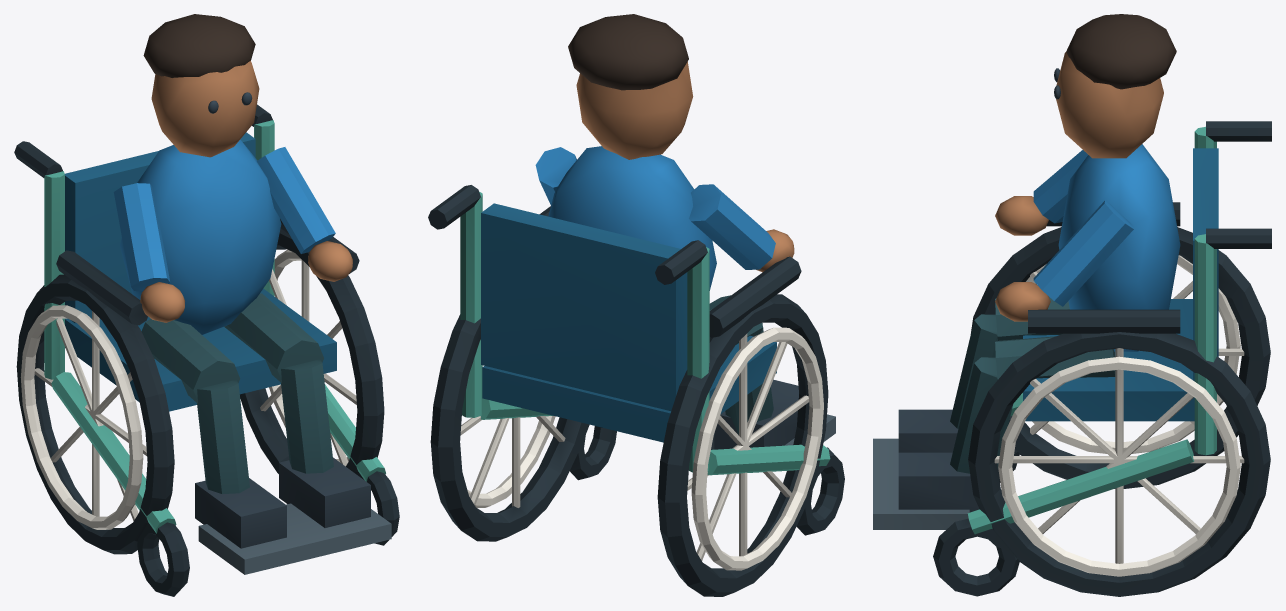
File: wheelchair-user.glb
3 renders of one model, left to right at view 1: azimuth 30°, elevation 25°; view 2: azimuth 150°, elevation 25°; view 3: azimuth 270°, elevation 25°, orthographic. The views are drawn at different scales.
Parts seen in each view (by area): view 1: wheel tyre, seated jacket, seated thigh, seat, push rim, head, shoe, chair frame, footplate, hair; view 2: seat, wheel tyre, seated jacket, push rim, chair frame, head, hair, shoe, seated thigh; view 3: wheel tyre, seated jacket, push rim, head, seat, chair frame, seated thigh, shoe, hair, footplate.
Boxes of the visible parts, left/top/right/bottom form: wheel tyre: left=14, top=104, right=399, bottom=596; seated jacket: left=113, top=139, right=335, bottom=334; seated thigh: left=141, top=293, right=333, bottom=494; seat: left=64, top=132, right=336, bottom=411; push rim: left=20, top=249, right=356, bottom=529; head: left=140, top=60, right=352, bottom=322; shoe: left=195, top=92, right=370, bottom=548; chair frame: left=44, top=120, right=385, bottom=533; footplate: left=198, top=503, right=391, bottom=574; hair: left=143, top=14, right=255, bottom=77; seat: left=481, top=203, right=776, bottom=442; wheel tyre: left=428, top=185, right=844, bottom=596; seated jacket: left=535, top=146, right=775, bottom=290; push rim: left=460, top=327, right=823, bottom=570; chair frame: left=460, top=192, right=830, bottom=475; head: left=576, top=61, right=794, bottom=272; hair: left=568, top=14, right=688, bottom=90; shoe: left=714, top=379, right=798, bottom=449; seated thigh: left=709, top=295, right=773, bottom=433; wheel tyre: left=933, top=121, right=1271, bottom=596; seated jacket: left=1033, top=144, right=1180, bottom=351; push rim: left=994, top=255, right=1244, bottom=576; head: left=995, top=52, right=1163, bottom=321; seat: left=1023, top=148, right=1218, bottom=421; chair frame: left=967, top=126, right=1216, bottom=534; seated thigh: left=950, top=296, right=1115, bottom=473; shoe: left=898, top=68, right=1060, bottom=512; hair: left=1066, top=14, right=1176, bottom=89; footplate: left=873, top=438, right=969, bottom=529.
Bounding box in the file's own units: 0.5892 × 1.13 × 0.785.
